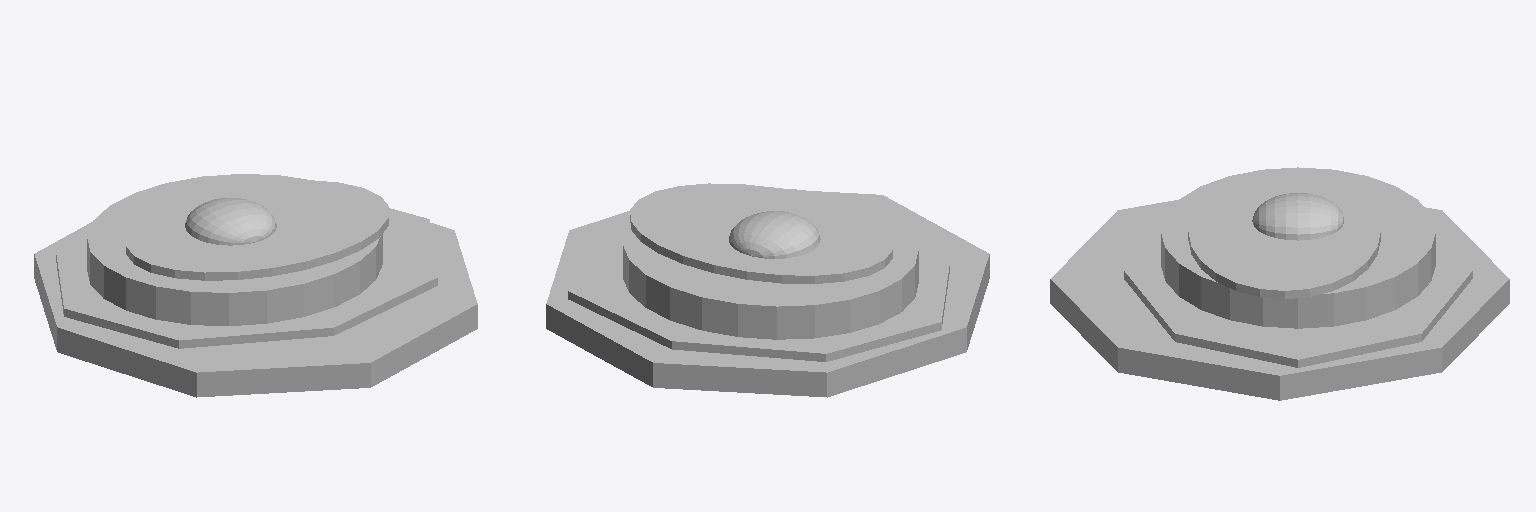
Rendered from LocoMoco.obj.
3 renders of one model, left to right at view 1: azimuth 30°, elevation 25°; view 2: azimuth 150°, elevation 25°; view 3: azimuth 270°, elevation 25°, orthographic.
Visible parts, largest first — view 1: cylinder_vertex_42, cylinder_full_44, cylinder_full_46, cylinder_vertex_43, sphere_dome_45; view 2: cylinder_vertex_42, cylinder_full_44, cylinder_full_46, cylinder_vertex_43, sphere_dome_45; view 3: cylinder_vertex_42, cylinder_full_44, cylinder_full_46, cylinder_vertex_43, sphere_dome_45.
Part boxes in pixels (x1,y1,x2,y2): cylinder_vertex_42: (34,222,477,397); cylinder_full_44: (87,174,382,325); cylinder_full_46: (126,180,388,280); cylinder_vertex_43: (56,208,437,348); sphere_dome_45: (185,198,276,245); cylinder_vertex_42: (546,191,989,397); cylinder_full_44: (623,188,918,339); cylinder_full_46: (630,183,892,283); cylinder_vertex_43: (568,218,949,361); sphere_dome_45: (729,211,820,258); cylinder_vertex_42: (1050,200,1509,400); cylinder_full_44: (1161,167,1435,328); cylinder_full_46: (1188,171,1380,298); cylinder_vertex_43: (1124,223,1472,367); sphere_dome_45: (1252,193,1343,240).
Bounding box in the file's own units: 5 × 1.15 × 5.